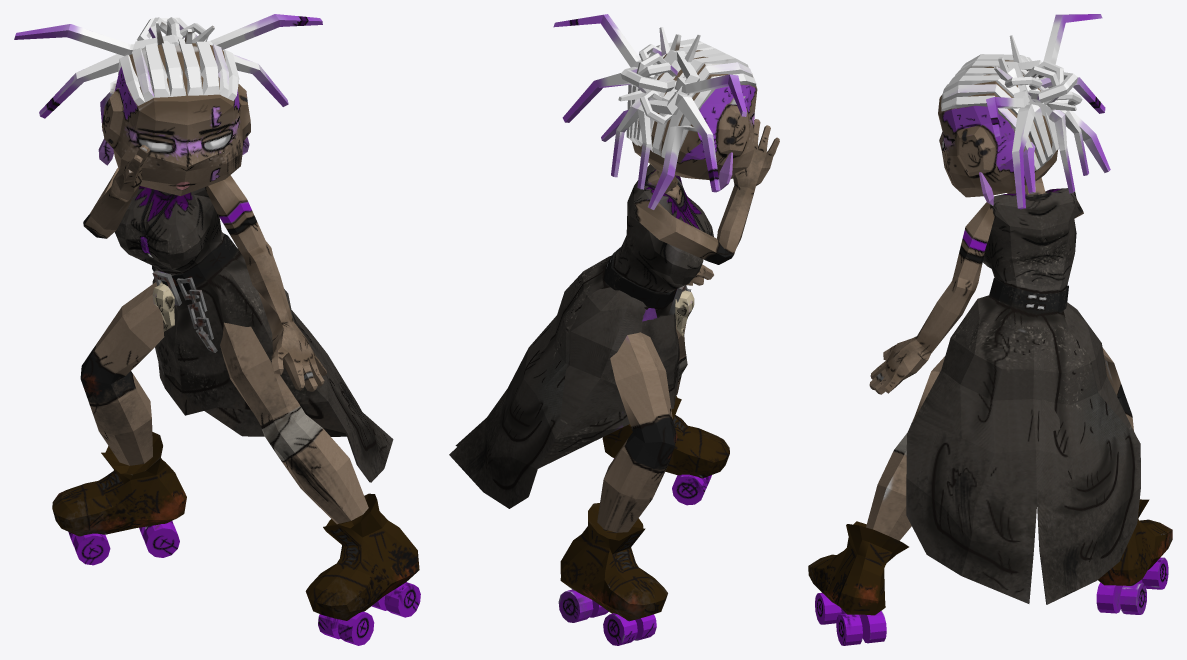
Rendered from bruja_000014.obj.
The picture shows the model from 3 angles, left to right: view 1: azimuth 30°, elevation 25°; view 2: azimuth 150°, elevation 25°; view 3: azimuth 270°, elevation 25°; orthographic projection. The views are drawn at different scales.
Visible parts, largest first — view 1: Bruja_Plane.001; view 2: Bruja_Plane.001; view 3: Bruja_Plane.001.
Part boxes in pixels (box(x1,y1,x2,y2)): Bruja_Plane.001: box(14, 14, 420, 645); Bruja_Plane.001: box(449, 14, 779, 645); Bruja_Plane.001: box(808, 14, 1172, 645).
Bounding box in the file's own units: 9.43 × 15.44 × 9.24.
